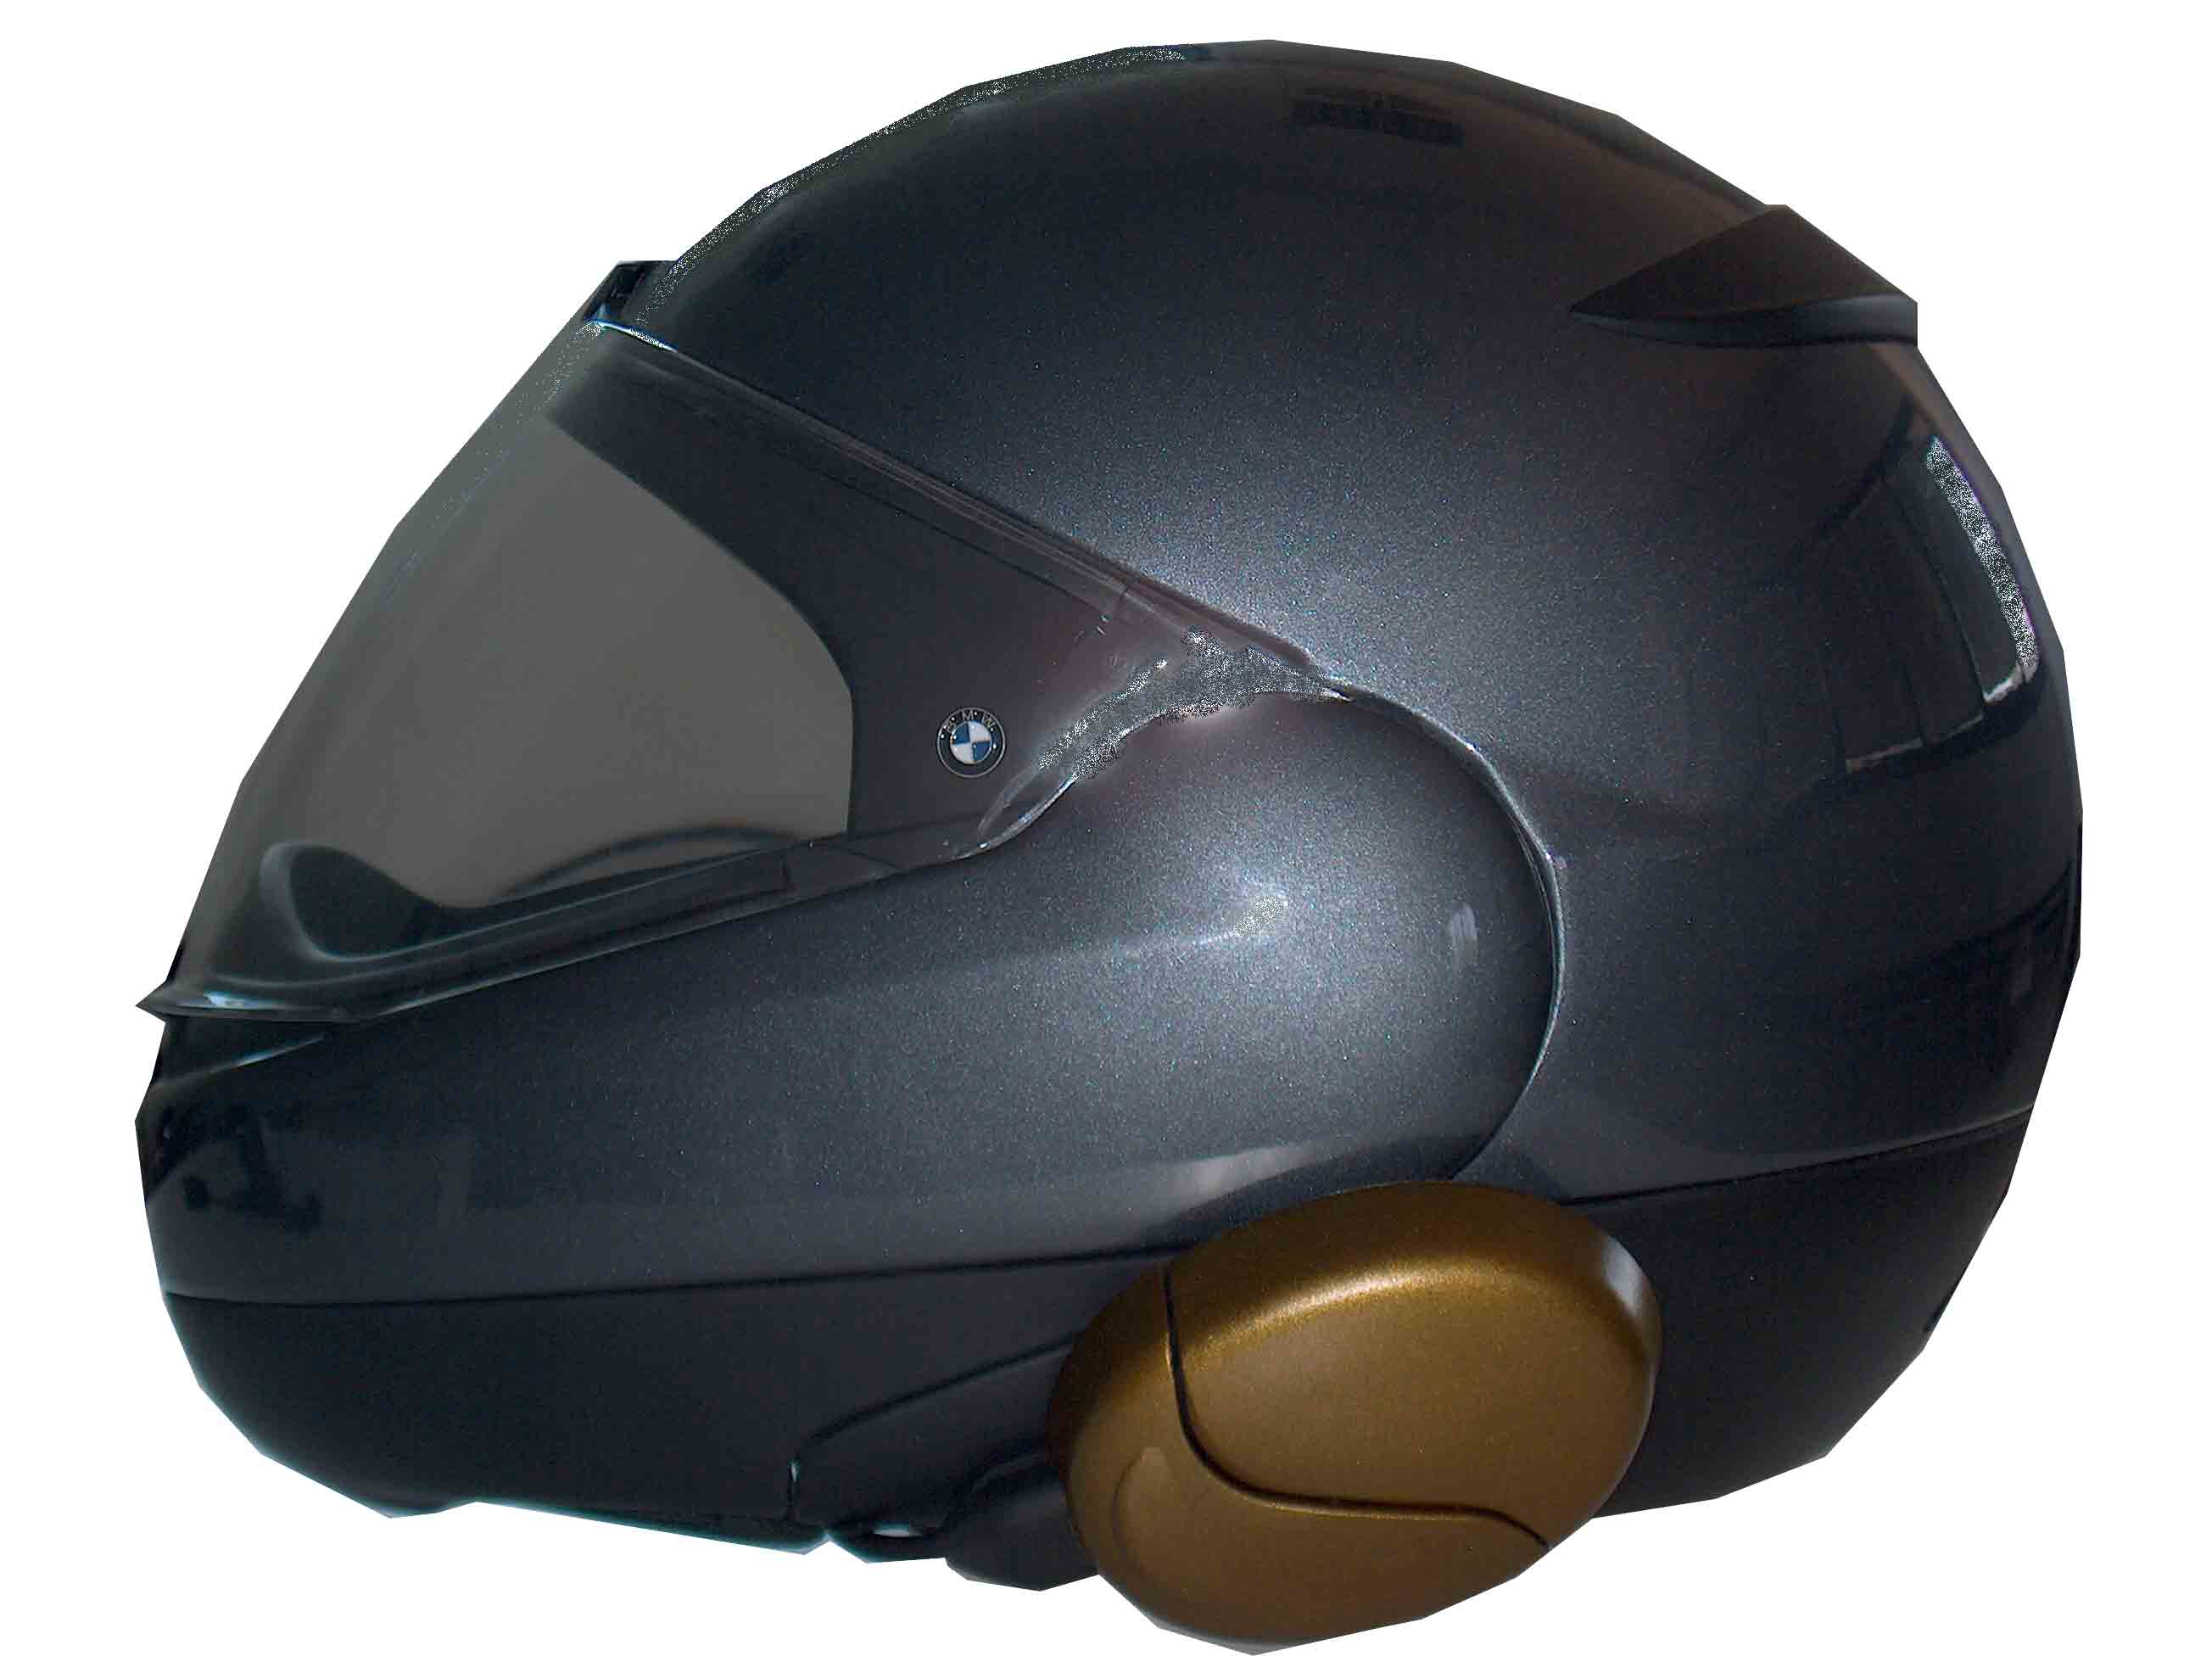helmet: (162, 35, 2073, 1559)
